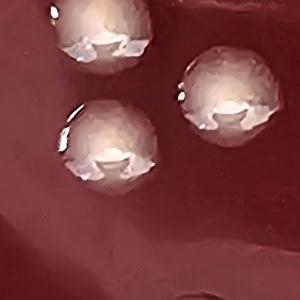colony: (174, 43, 292, 157), (51, 94, 165, 206), (44, 0, 161, 83)
